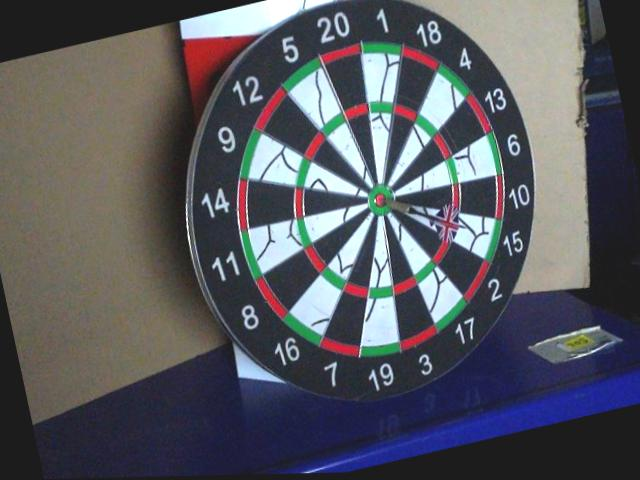bullseye: (369, 187, 395, 215)
